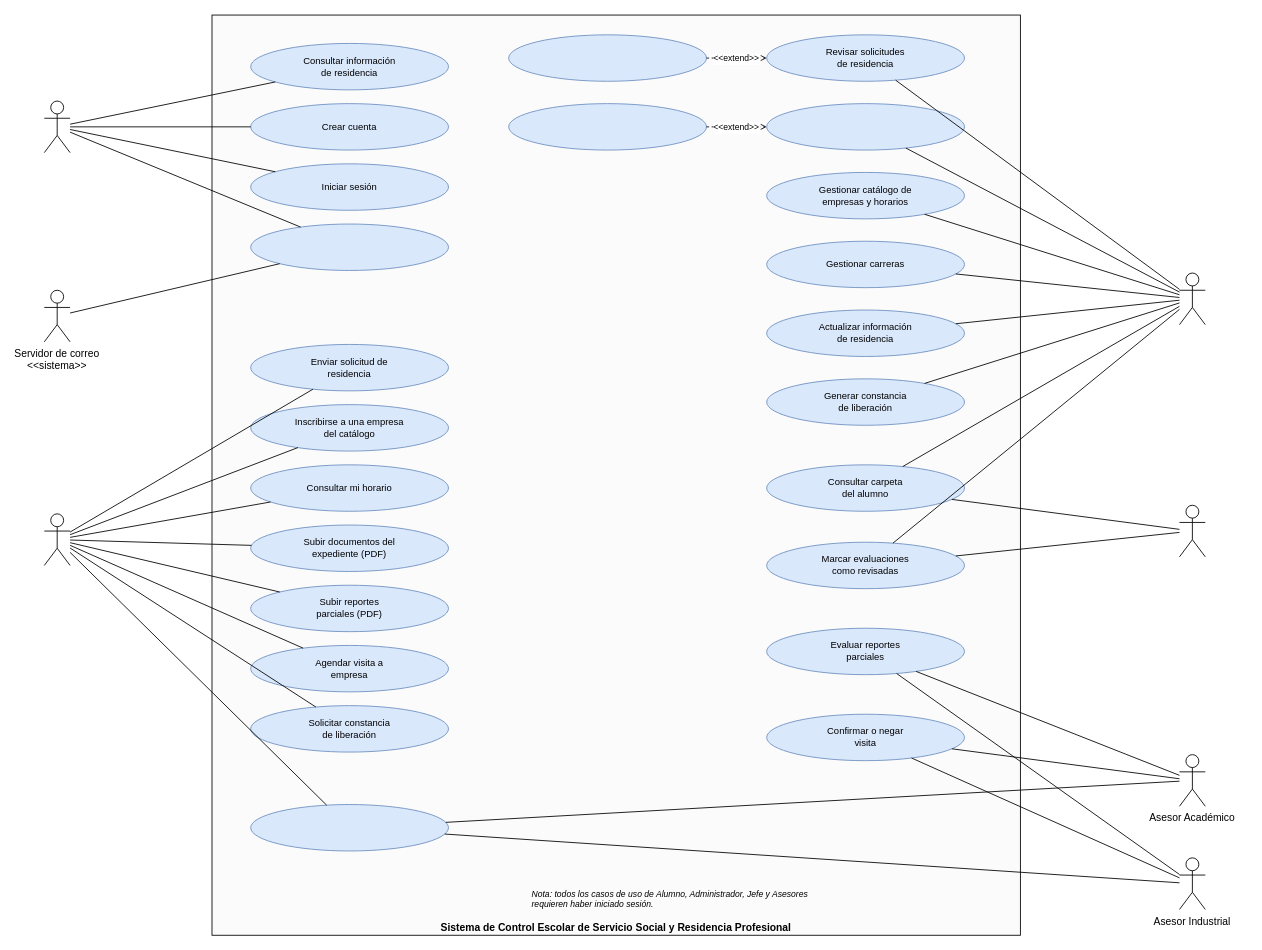
Some shapes in this 1262 by 950 pixel diagram are drawn without their labels. Each missing label, with the centre of its shape:
Administrador (Depto. de Residencias): point 1192,298
Alumno: point 56,539
Comentar observaciones de un documento: point 349,827
Generar carta de presentación: point 607,57
Gestionar usuarios: point 865,126
Importar usuarios desde Excel: point 607,126
Jefe de Carrera: point 1192,530
Recuperar contraseña: point 349,246
Visitante: point 56,126
